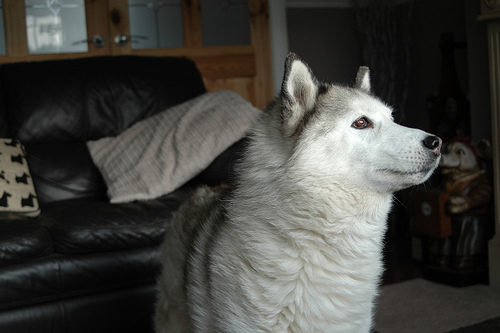dog: (152, 52, 443, 332)
